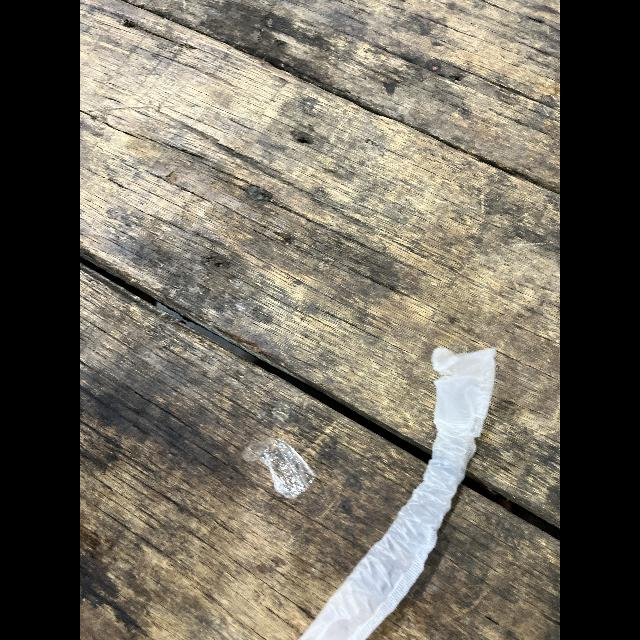scrap_plastic: (277, 340, 505, 640)
